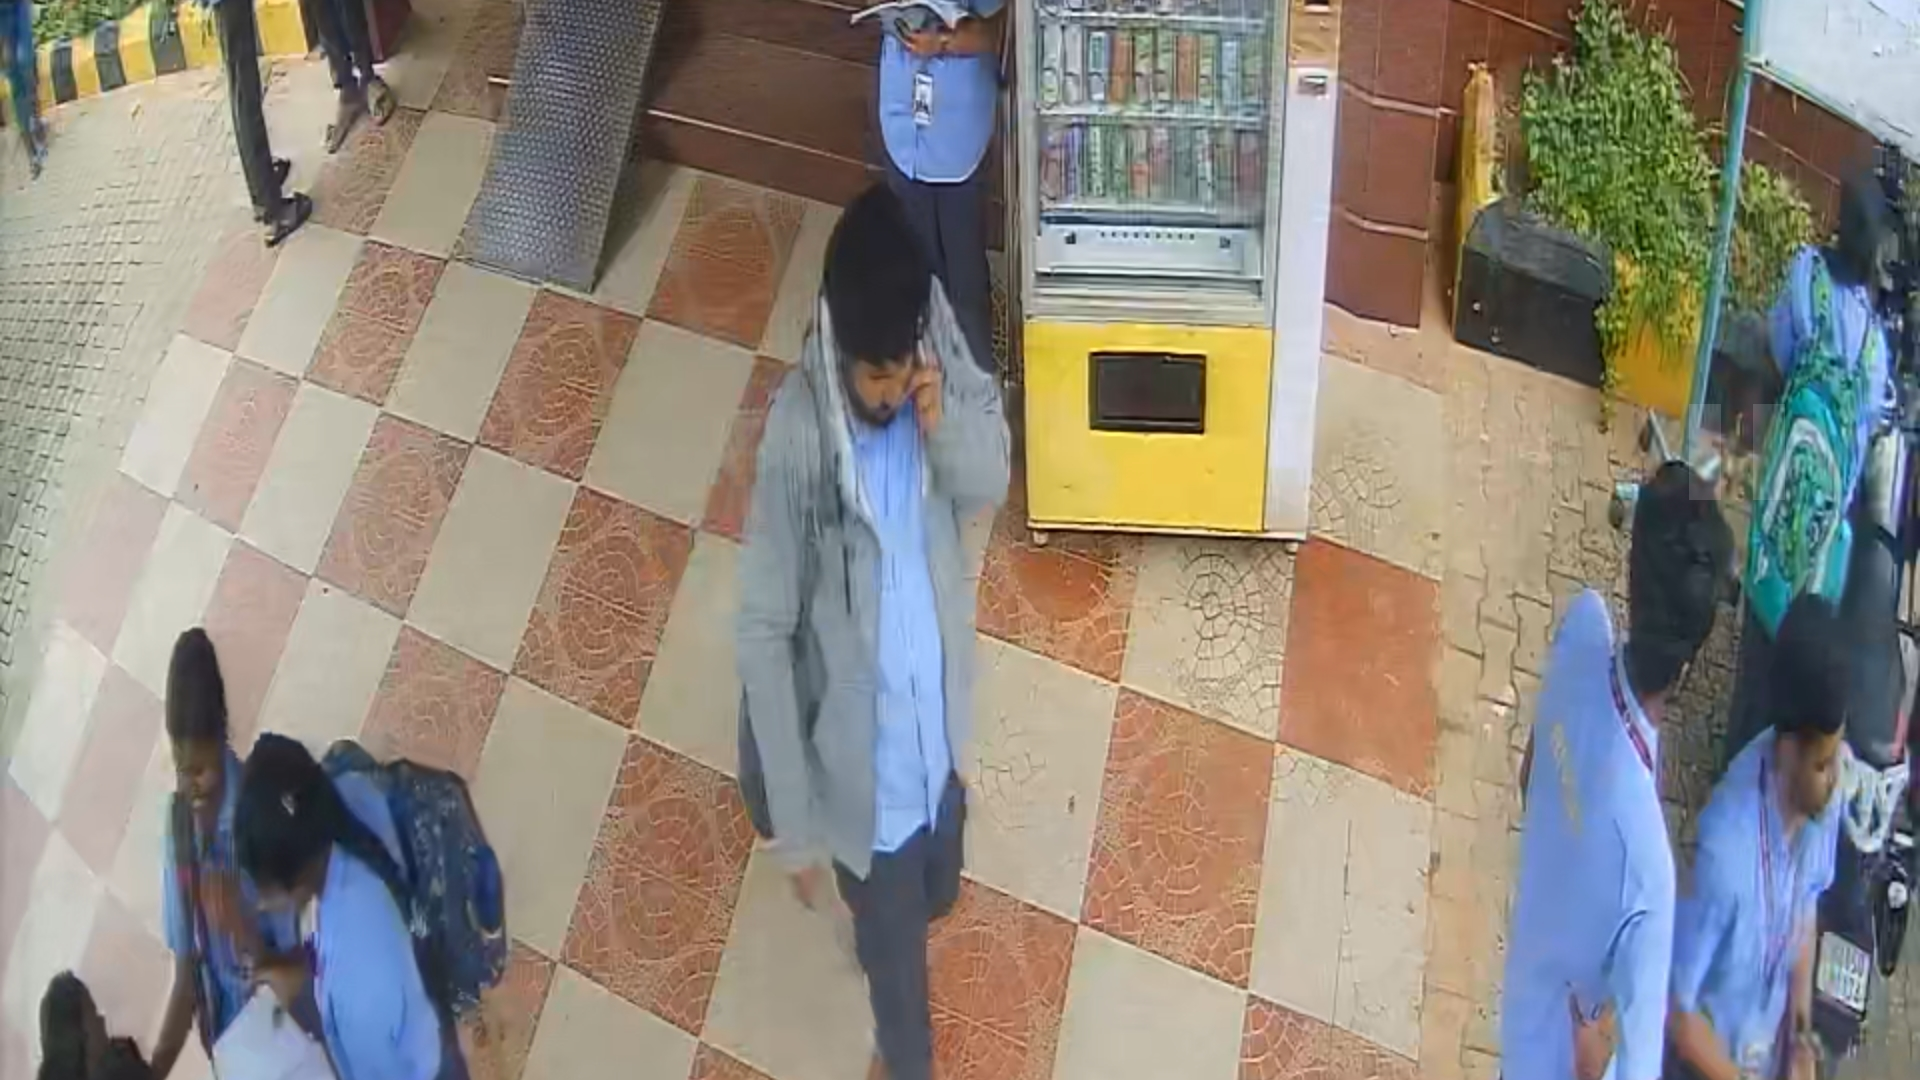intruder: (740, 178, 1052, 1080)
